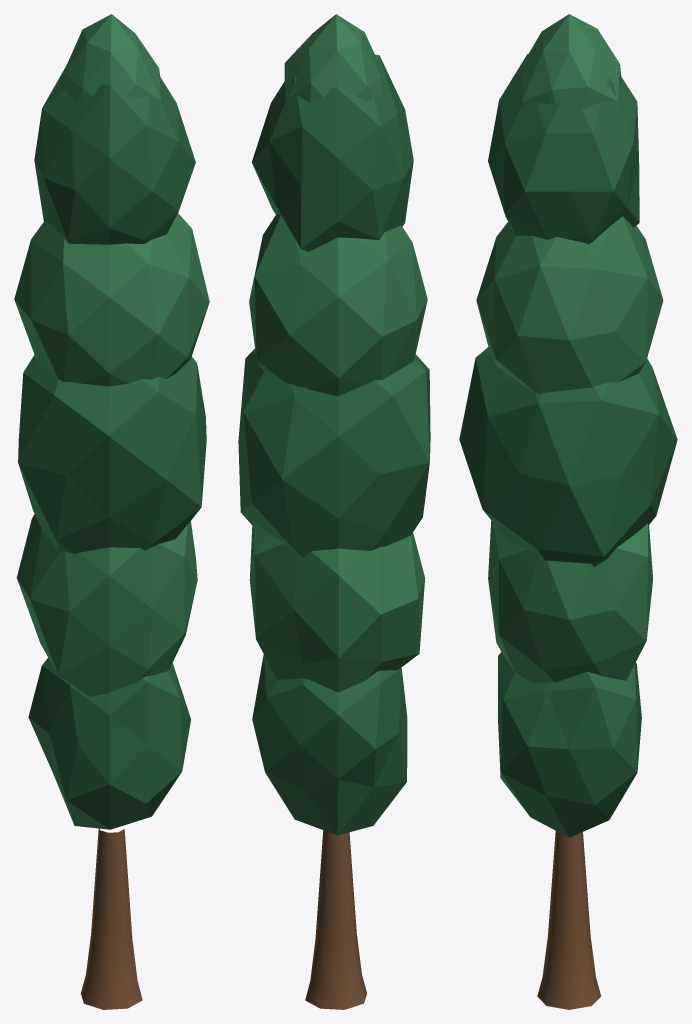
File: arvore-cipreste.glb
3 views of the same model, side by side, from view 1: azimuth 30°, elevation 25°; view 2: azimuth 150°, elevation 25°; view 3: azimuth 270°, elevation 25° (orthographic).
Visible parts, largest first — view 1: Copa, Tronco; view 2: Copa, Tronco; view 3: Copa, Tronco.
Part boxes in pixels (<box>): Copa: <box>14,14,209,829</box>; Tronco: <box>80,828,142,1009</box>; Copa: <box>238,14,430,835</box>; Tronco: <box>305,830,366,1009</box>; Copa: <box>459,14,677,837</box>; Tronco: <box>537,831,601,1009</box>.
Size of the model in its own units: 1.62 by 8.12 by 1.63.
